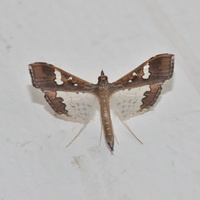insect: (29, 53, 173, 150)
